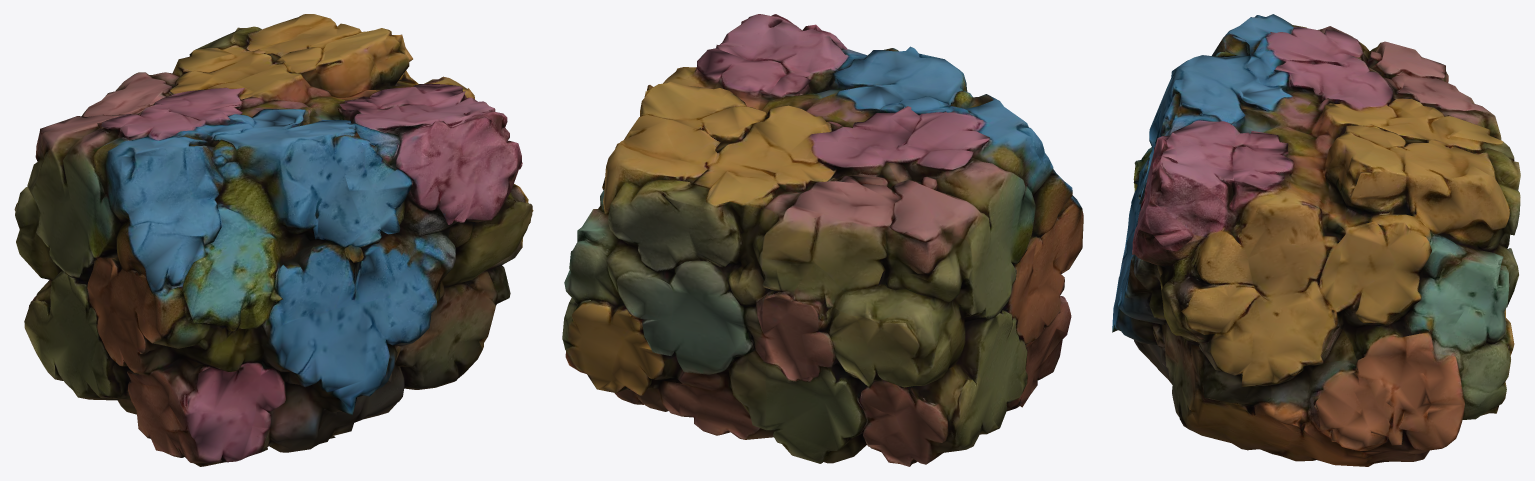
File: cluster.glb
The picture shows the model from 3 angles, left to right: view 1: azimuth 30°, elevation 25°; view 2: azimuth 150°, elevation 25°; view 3: azimuth 270°, elevation 25°; orthographic projection.
Parts seen in each view (by area): view 1: tripo_node_3356e367; view 2: tripo_node_3356e367; view 3: tripo_node_3356e367.
Part boxes in pixels (bbox=[...]): tripo_node_3356e367: bbox=[14, 14, 533, 466]; tripo_node_3356e367: bbox=[562, 14, 1083, 466]; tripo_node_3356e367: bbox=[1112, 14, 1520, 466].
Size of the model in its own units: 0.9985 by 0.7414 by 0.9021.
Materials: 1 (1 with a texture image).
